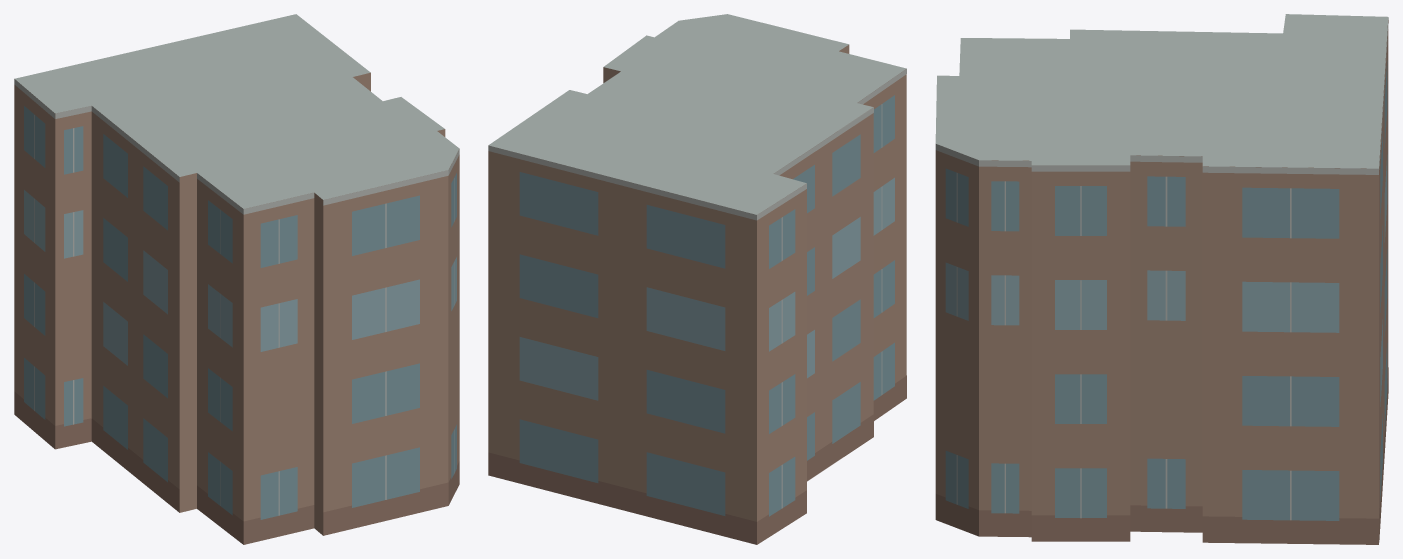
File: survey-upis-32630095.glb
The picture shows the model from 3 angles, left to right: view 1: azimuth 30°, elevation 25°; view 2: azimuth 150°, elevation 25°; view 3: azimuth 270°, elevation 25°; orthographic projection. The views are drawn at different scales.
Visible parts, largest first — view 1: survey-upis-32630095.tmp; view 2: survey-upis-32630095.tmp; view 3: survey-upis-32630095.tmp.
Boxes of the visible parts, x1,y1,x2,y2 form: survey-upis-32630095.tmp: [14, 14, 459, 544]; survey-upis-32630095.tmp: [488, 14, 906, 544]; survey-upis-32630095.tmp: [935, 14, 1388, 544].
Bounding box in the file's own units: 12.7 × 14.4 × 15.71.
